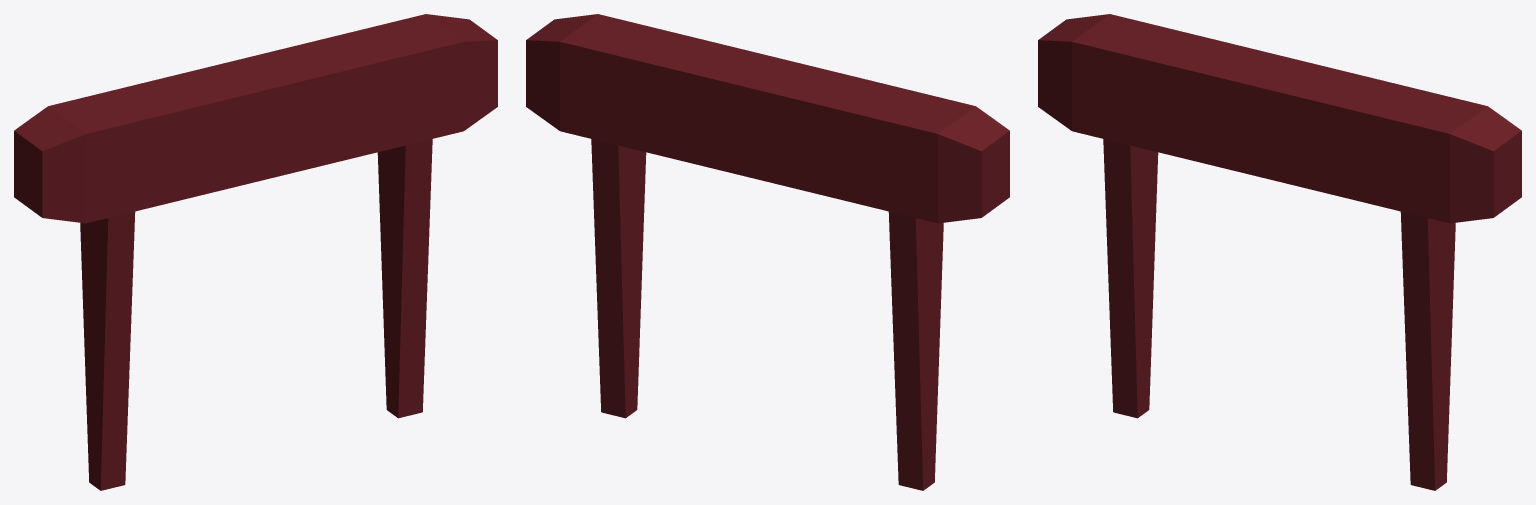
File: Cerca_1.fbx
The picture shows the model from 3 angles, left to right: view 1: azimuth 30°, elevation 25°; view 2: azimuth 150°, elevation 25°; view 3: azimuth 330°, elevation 25°; orthographic projection.
Parts seen in each view (by area): view 1: Cerca; view 2: Cerca; view 3: Cerca.
Boxes of the visible parts, <box> form: Cerca: <box>14,14,497,490</box>; Cerca: <box>526,14,1009,490</box>; Cerca: <box>1038,14,1521,490</box>.
Size of the model in its own units: 1.67 by 1.31 by 0.2418.
